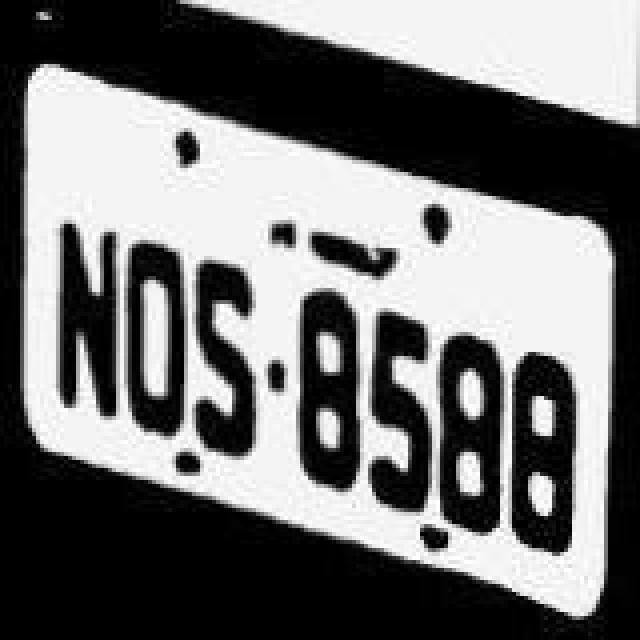5: (360, 298, 436, 522)
8: (286, 282, 366, 506), (512, 340, 588, 564), (434, 318, 506, 534)
N: (46, 218, 126, 430)
O: (118, 236, 190, 452)
S: (188, 250, 272, 458)
